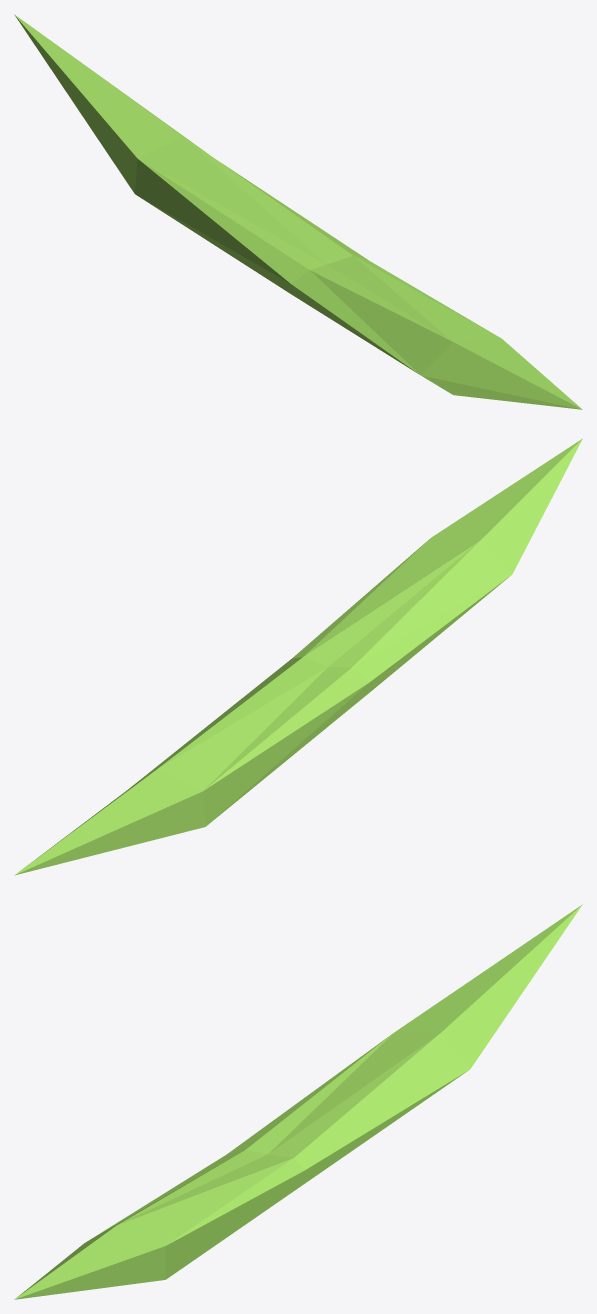
The model's file is cuttedCabbage.fbx.
3 renders of one model, top to bottom at view 1: azimuth 30°, elevation 25°; view 2: azimuth 150°, elevation 25°; view 3: azimuth 330°, elevation 25°, orthographic.
Parts seen in each view (by area): view 1: Icosphere; view 2: Icosphere; view 3: Icosphere.
Boxes of the visible parts, x1,y1,x2,y2 form: Icosphere: [14, 14, 582, 409]; Icosphere: [14, 438, 582, 875]; Icosphere: [14, 904, 582, 1299].
Size of the model in its own units: 183 by 173 by 2018.
